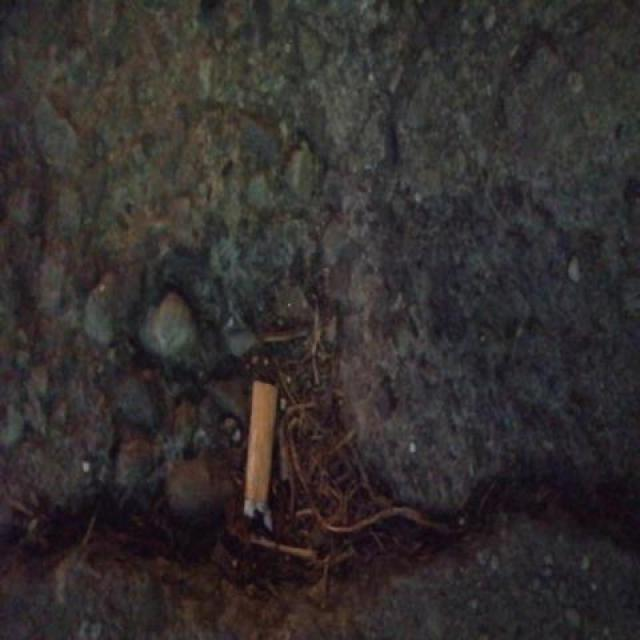non-organic waste: (239, 378, 285, 538)
